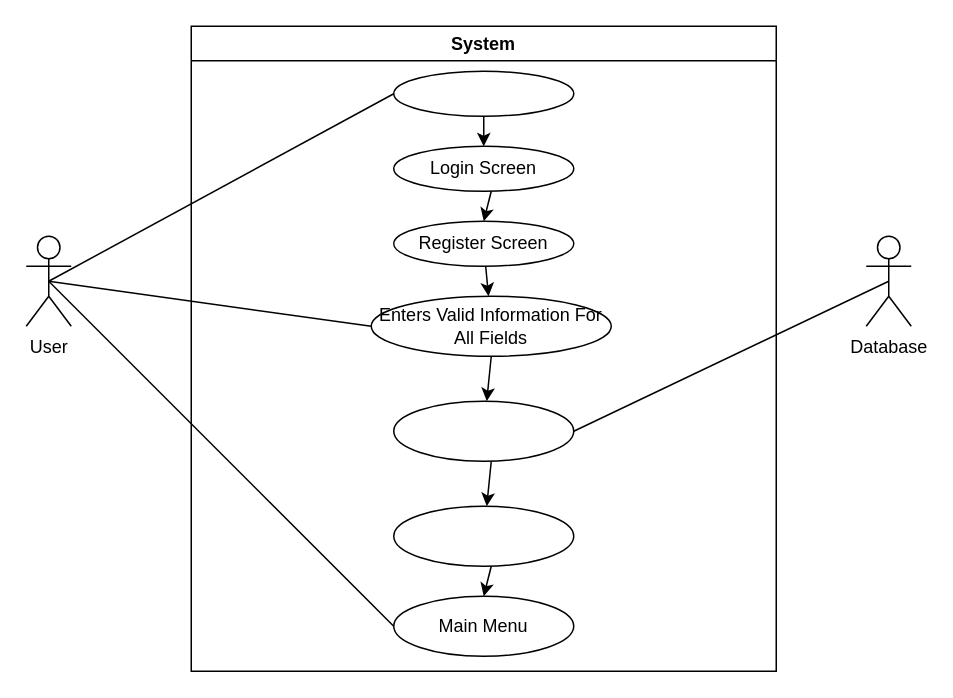
The diagram is 953 pixels wide and 698 high, and some of its shapes have lost their labels. Each missing label, with the centre of its shape:
"Information Correct, Authorizes User" goes at point 483,535.
"Launches Program" goes at point 483,93.
"System Authenticates Information" goes at point 483,430.
